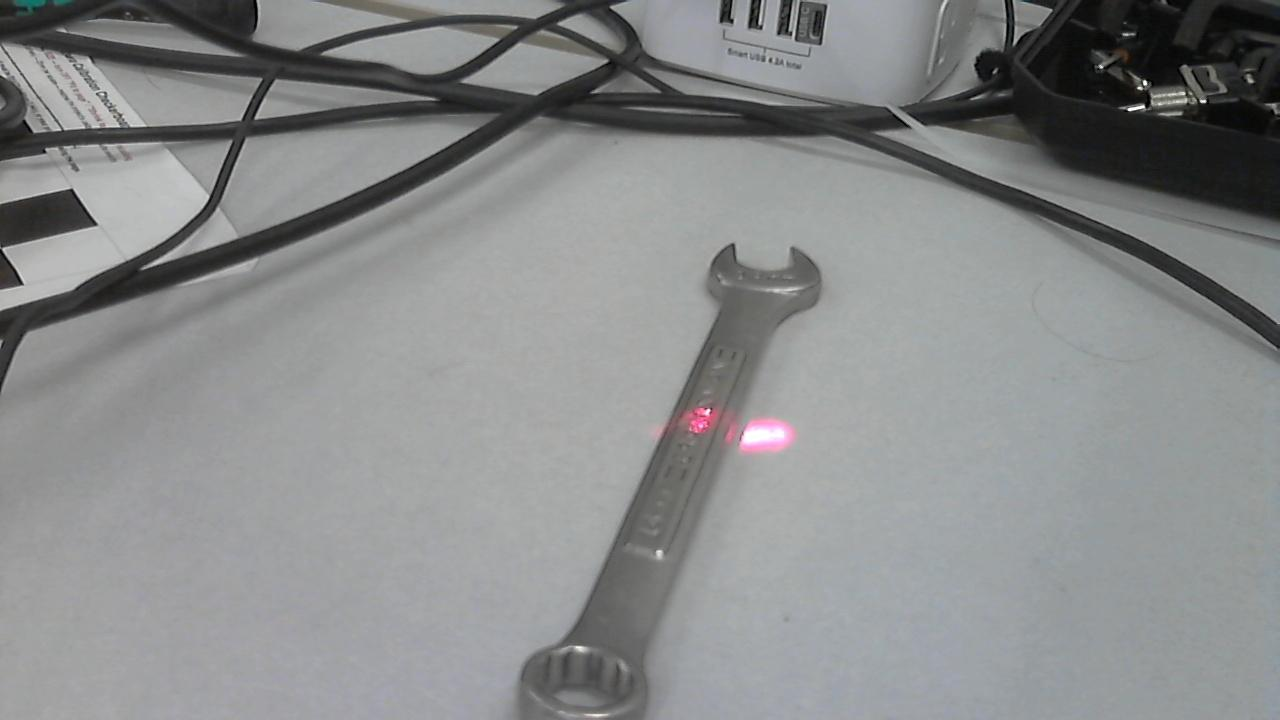Object desktop tape dispenser - Material plastic tape - Pdfname 8pMd29OsIRjD: (682, 400, 726, 447)
